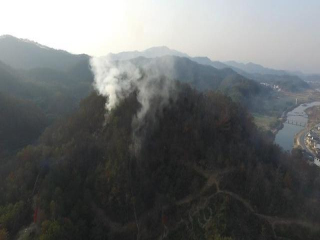smoke: (86, 46, 198, 140)
